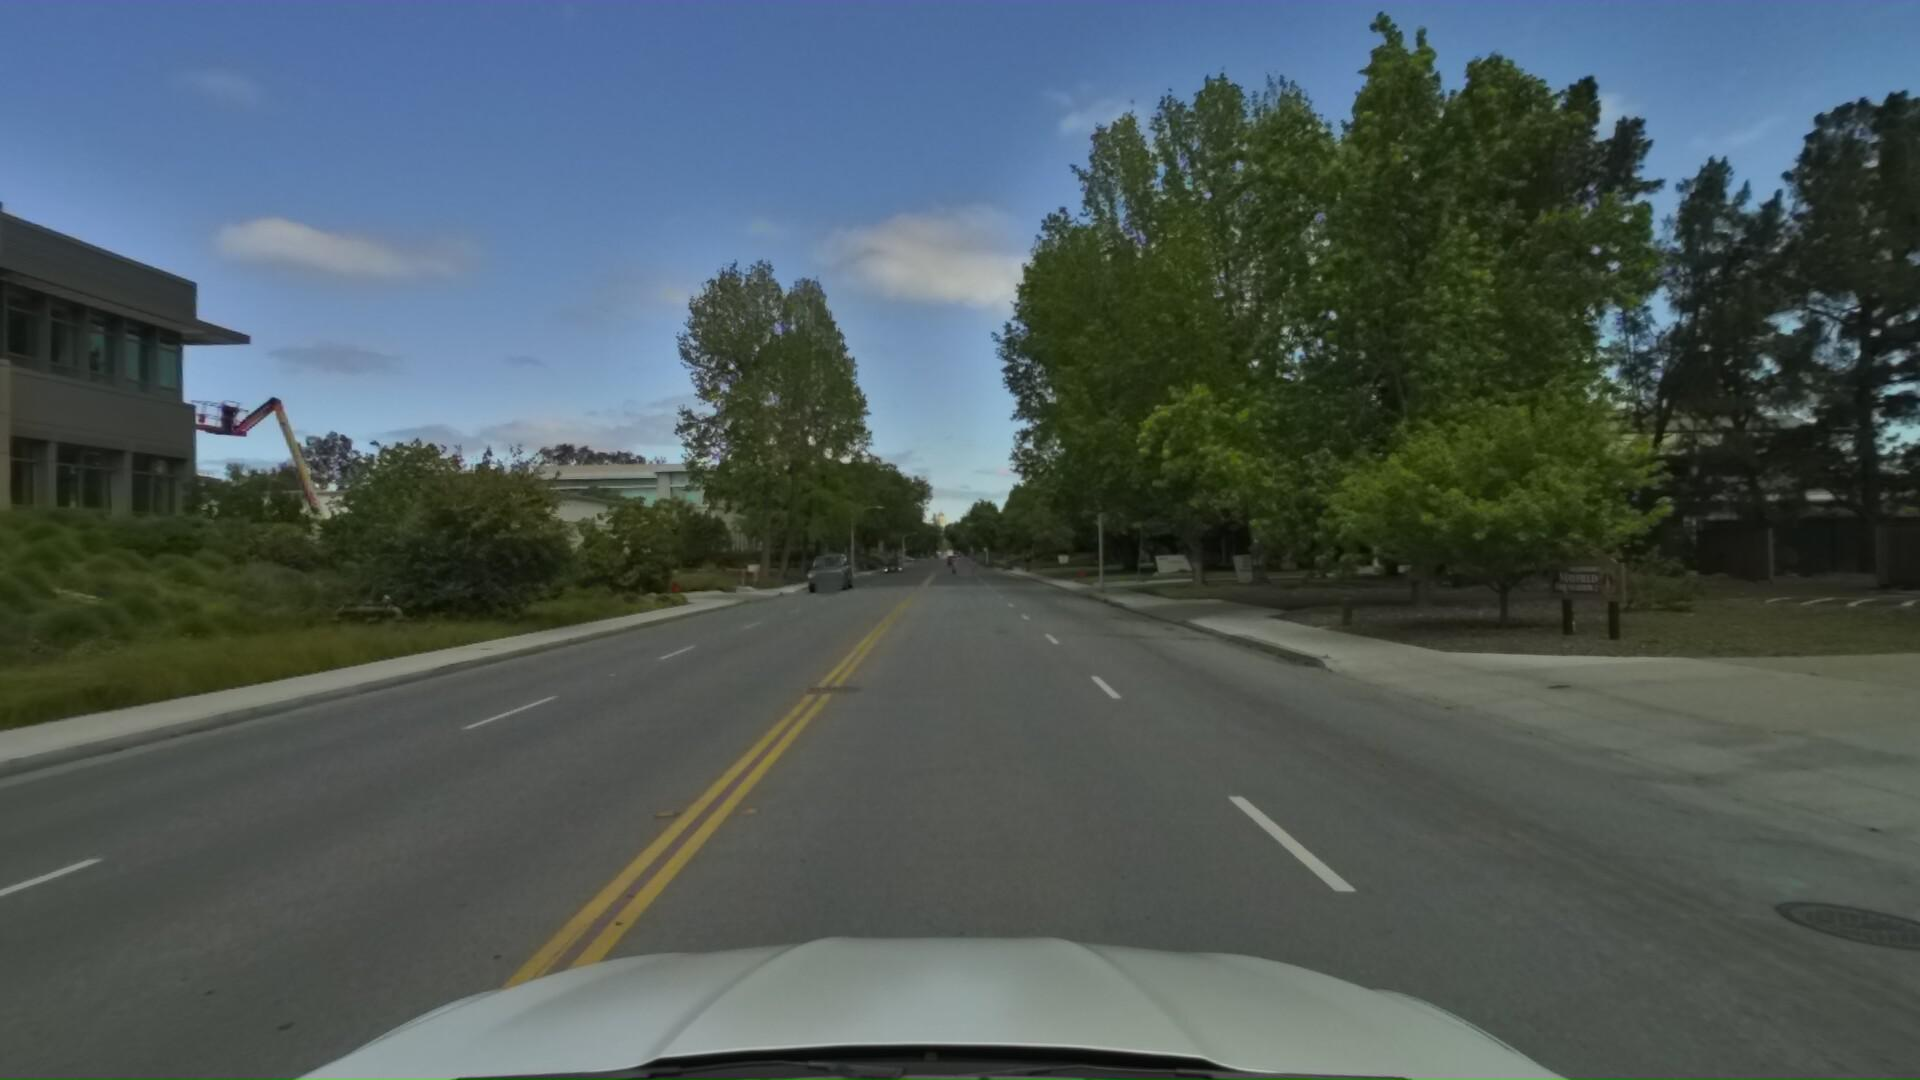car: (800, 543, 855, 582)
other_vehicle: (170, 373, 357, 593)
